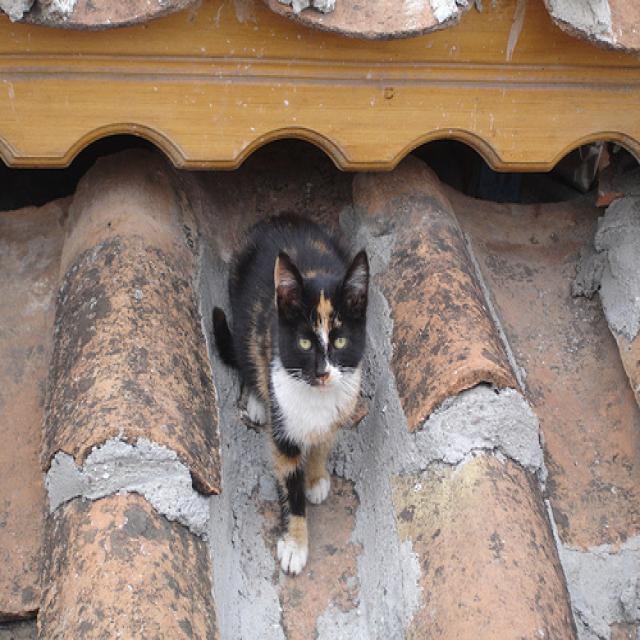left eye: (332, 331, 348, 350)
